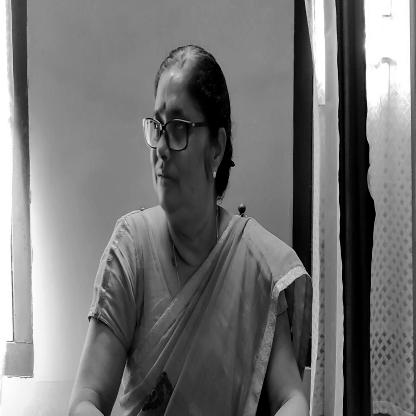Distracted: (144, 51, 234, 214)
